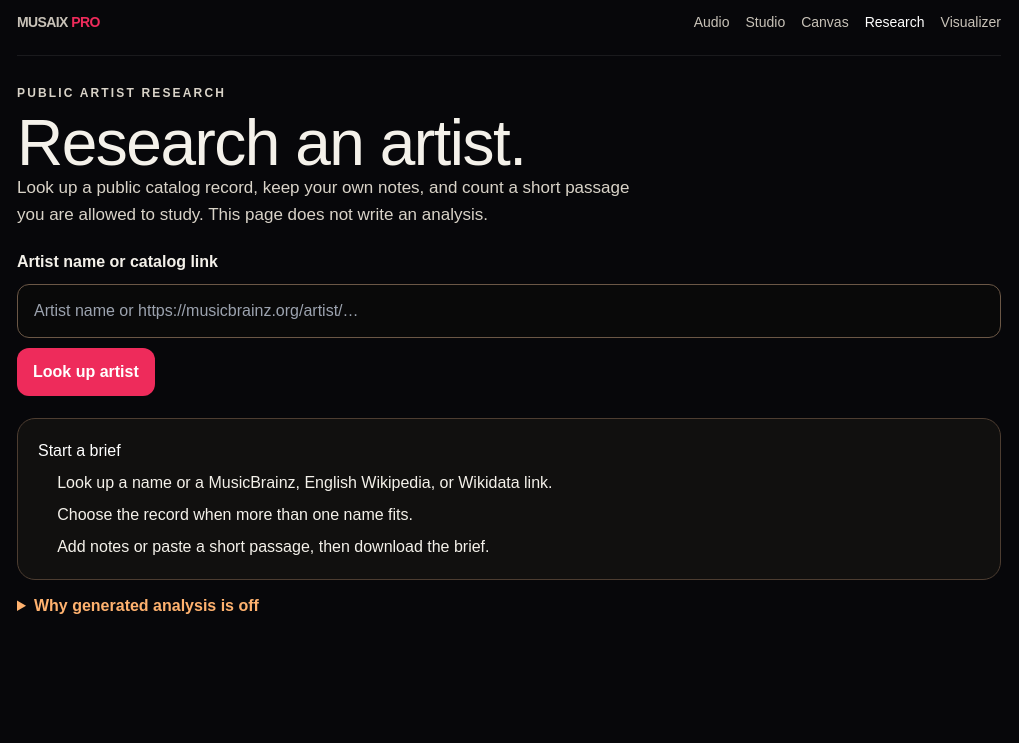
Scenario: artist research workspace › offers search links when the name is unknown and hides a model payload
The image size is (1019, 743).
Later steps or results of the test are not shown.
Step 1. Type "missing person" into the field labelled "Artist name or catalog link" → x=509, y=311, box left=17, top=284, right=1001, bottom=338
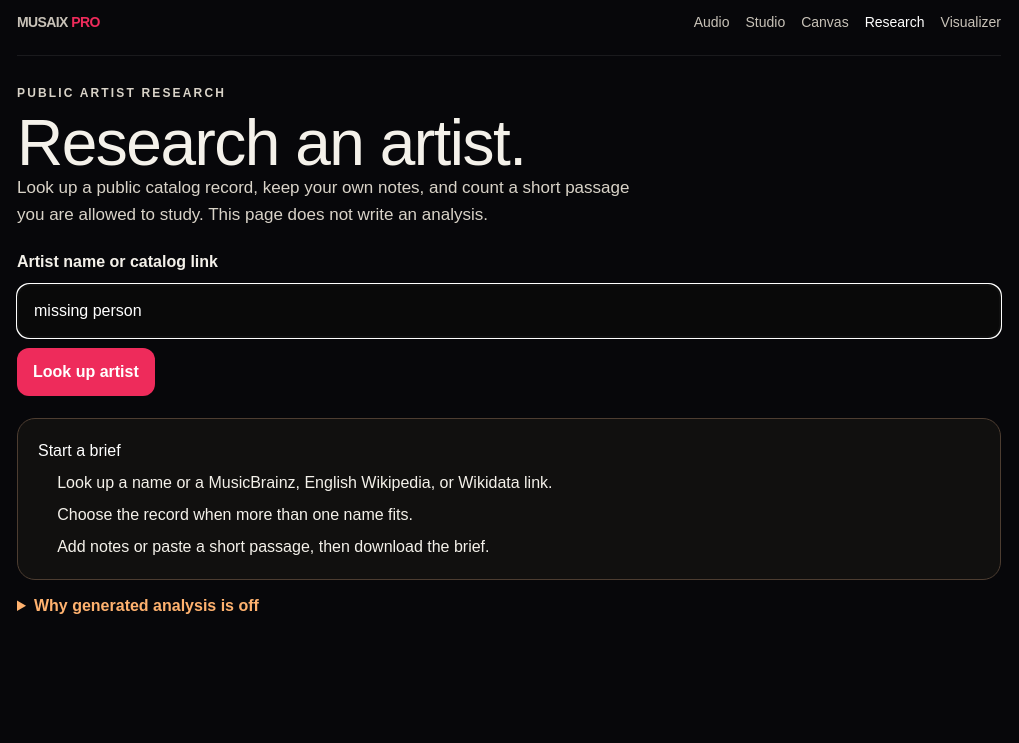
Step 2. Click the button "Look up artist" → x=86, y=372, box left=17, top=348, right=155, bottom=396
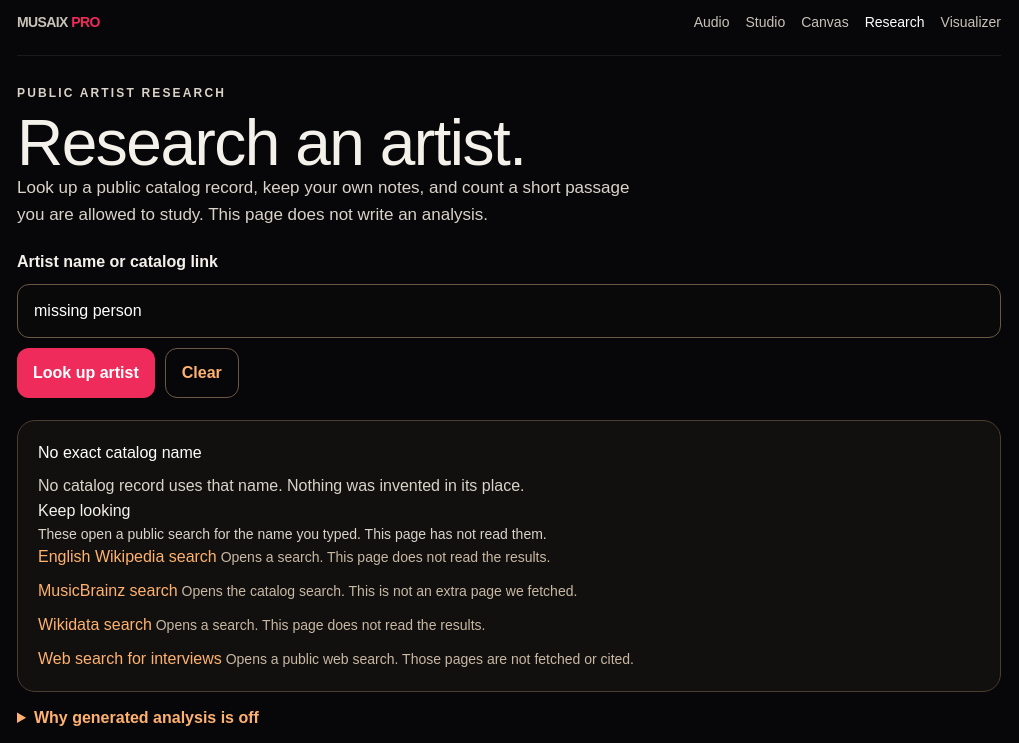
Result: the heading "No exact catalog name" is shown at left=38, top=444, right=202, bottom=461
